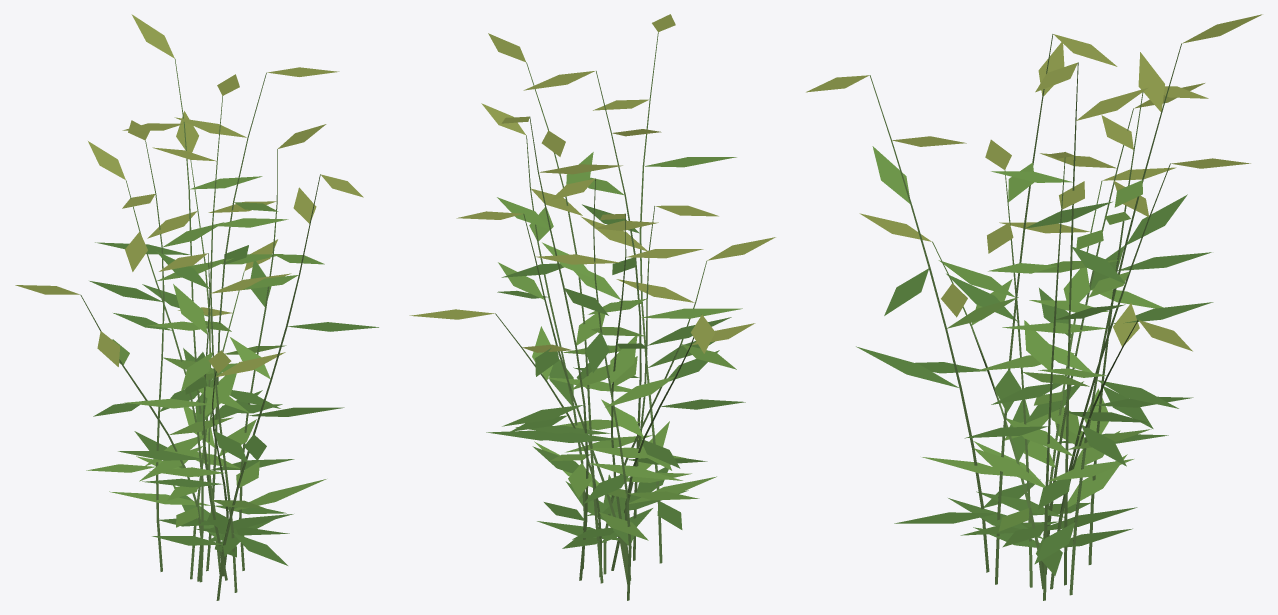
File: pondweed.glb
The picture shows the model from 3 angles, left to right: view 1: azimuth 30°, elevation 25°; view 2: azimuth 150°, elevation 25°; view 3: azimuth 270°, elevation 25°; orthographic projection. The views are drawn at different scales.
Visible parts, largest first — view 1: pondweed; view 2: pondweed; view 3: pondweed.
Boxes of the visible parts, box(x1,y1,x2,y2) form: pondweed: box(15, 14, 378, 600); pondweed: box(409, 14, 775, 600); pondweed: box(806, 14, 1262, 600).
Size of the model in its own units: 1.47 by 2.56 by 1.85.
